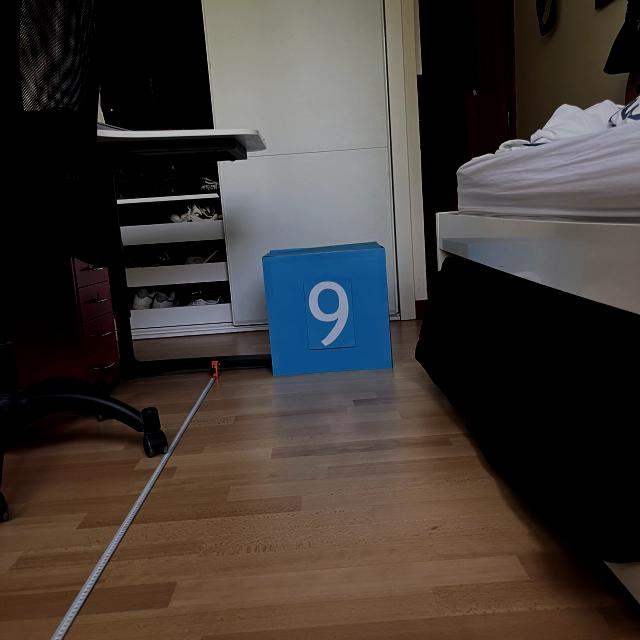box: (258, 237, 397, 378)
